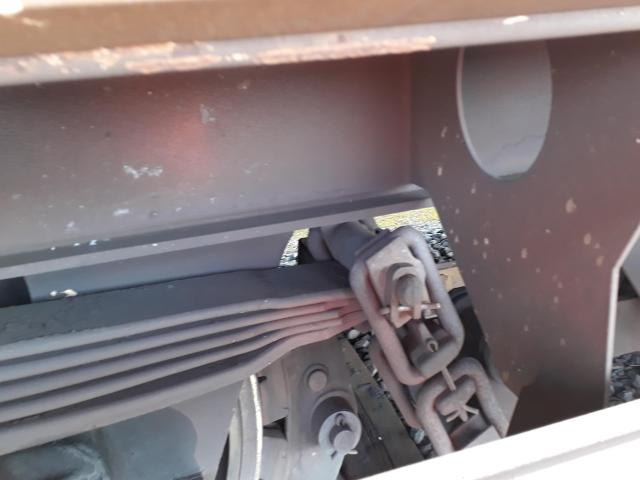blattfederww: (1, 258, 346, 422)
